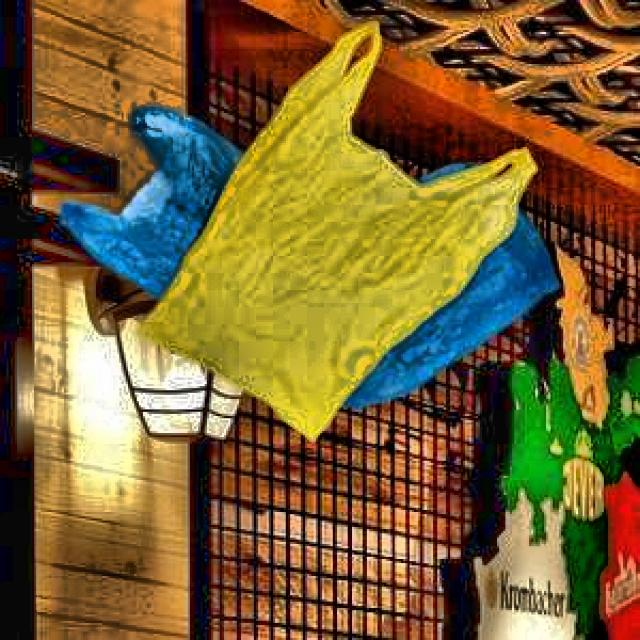Plastic: (132, 12, 558, 469)
